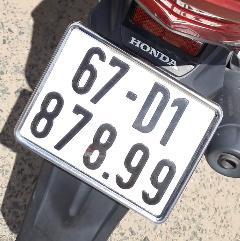1: (151, 91, 195, 149)
6: (65, 43, 111, 102)
7: (47, 99, 100, 156), (86, 51, 136, 108)
8: (75, 115, 125, 175), (25, 84, 70, 143)
9: (134, 151, 184, 211), (111, 137, 157, 196)
D: (125, 75, 177, 141)
